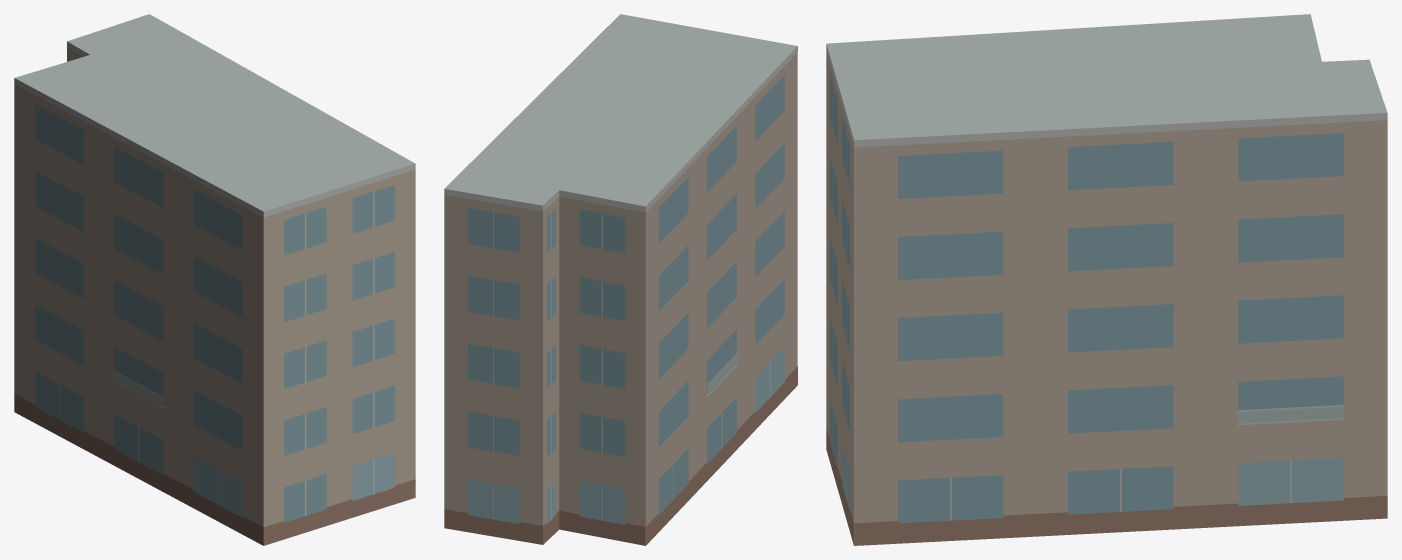
File: survey-upis-32575693.glb
The picture shows the model from 3 angles, left to right: view 1: azimuth 30°, elevation 25°; view 2: azimuth 150°, elevation 25°; view 3: azimuth 270°, elevation 25°; orthographic projection. The views are drawn at different scales.
Visible parts, largest first — view 1: survey-upis-32575693.tmp; view 2: survey-upis-32575693.tmp; view 3: survey-upis-32575693.tmp.
Boxes of the visible parts, left/top/right/bottom form: survey-upis-32575693.tmp: left=14, top=14, right=415, bottom=545; survey-upis-32575693.tmp: left=444, top=14, right=797, bottom=545; survey-upis-32575693.tmp: left=826, top=14, right=1387, bottom=545.
Bounding box in the file's own units: 9.05 × 13.55 × 17.
